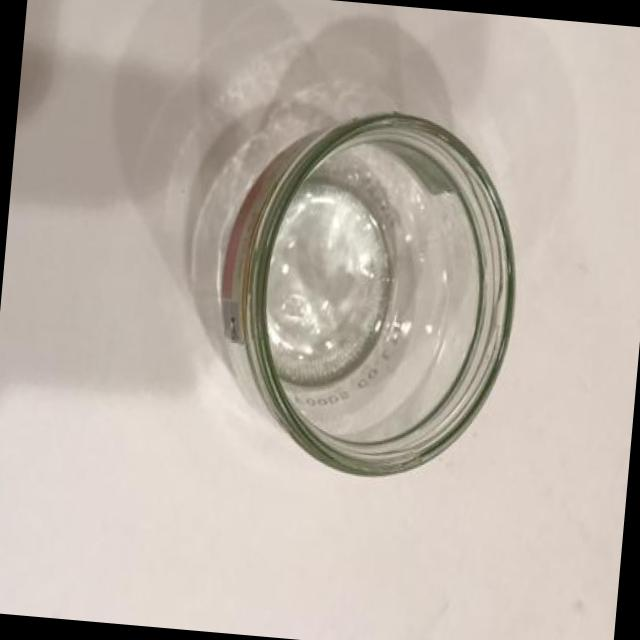chai_thuy_tinh: (219, 113, 515, 477)
